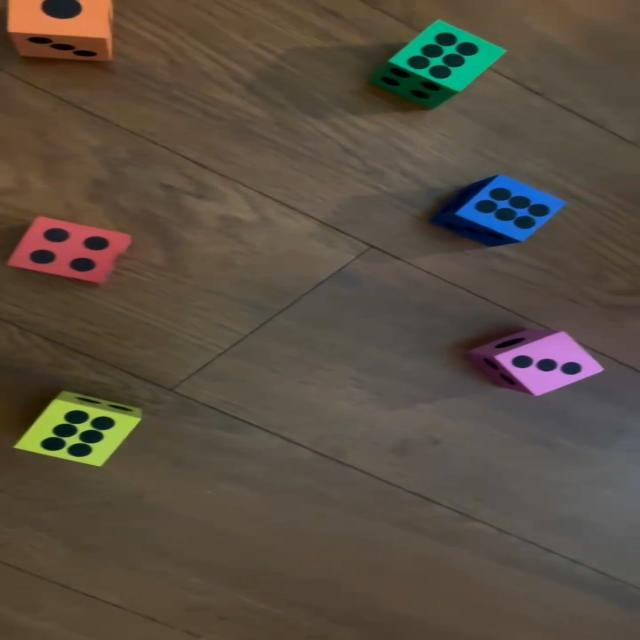blue_block: (432, 174, 568, 248)
red_block: (6, 216, 136, 282)
